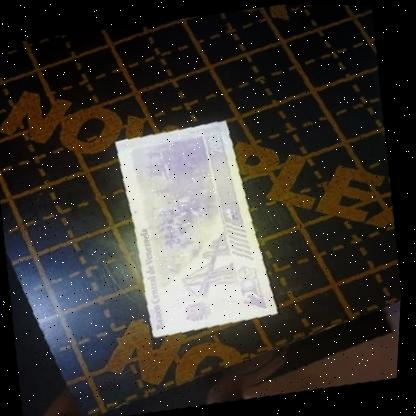two_hundred-back-vef: (106, 111, 291, 342)
